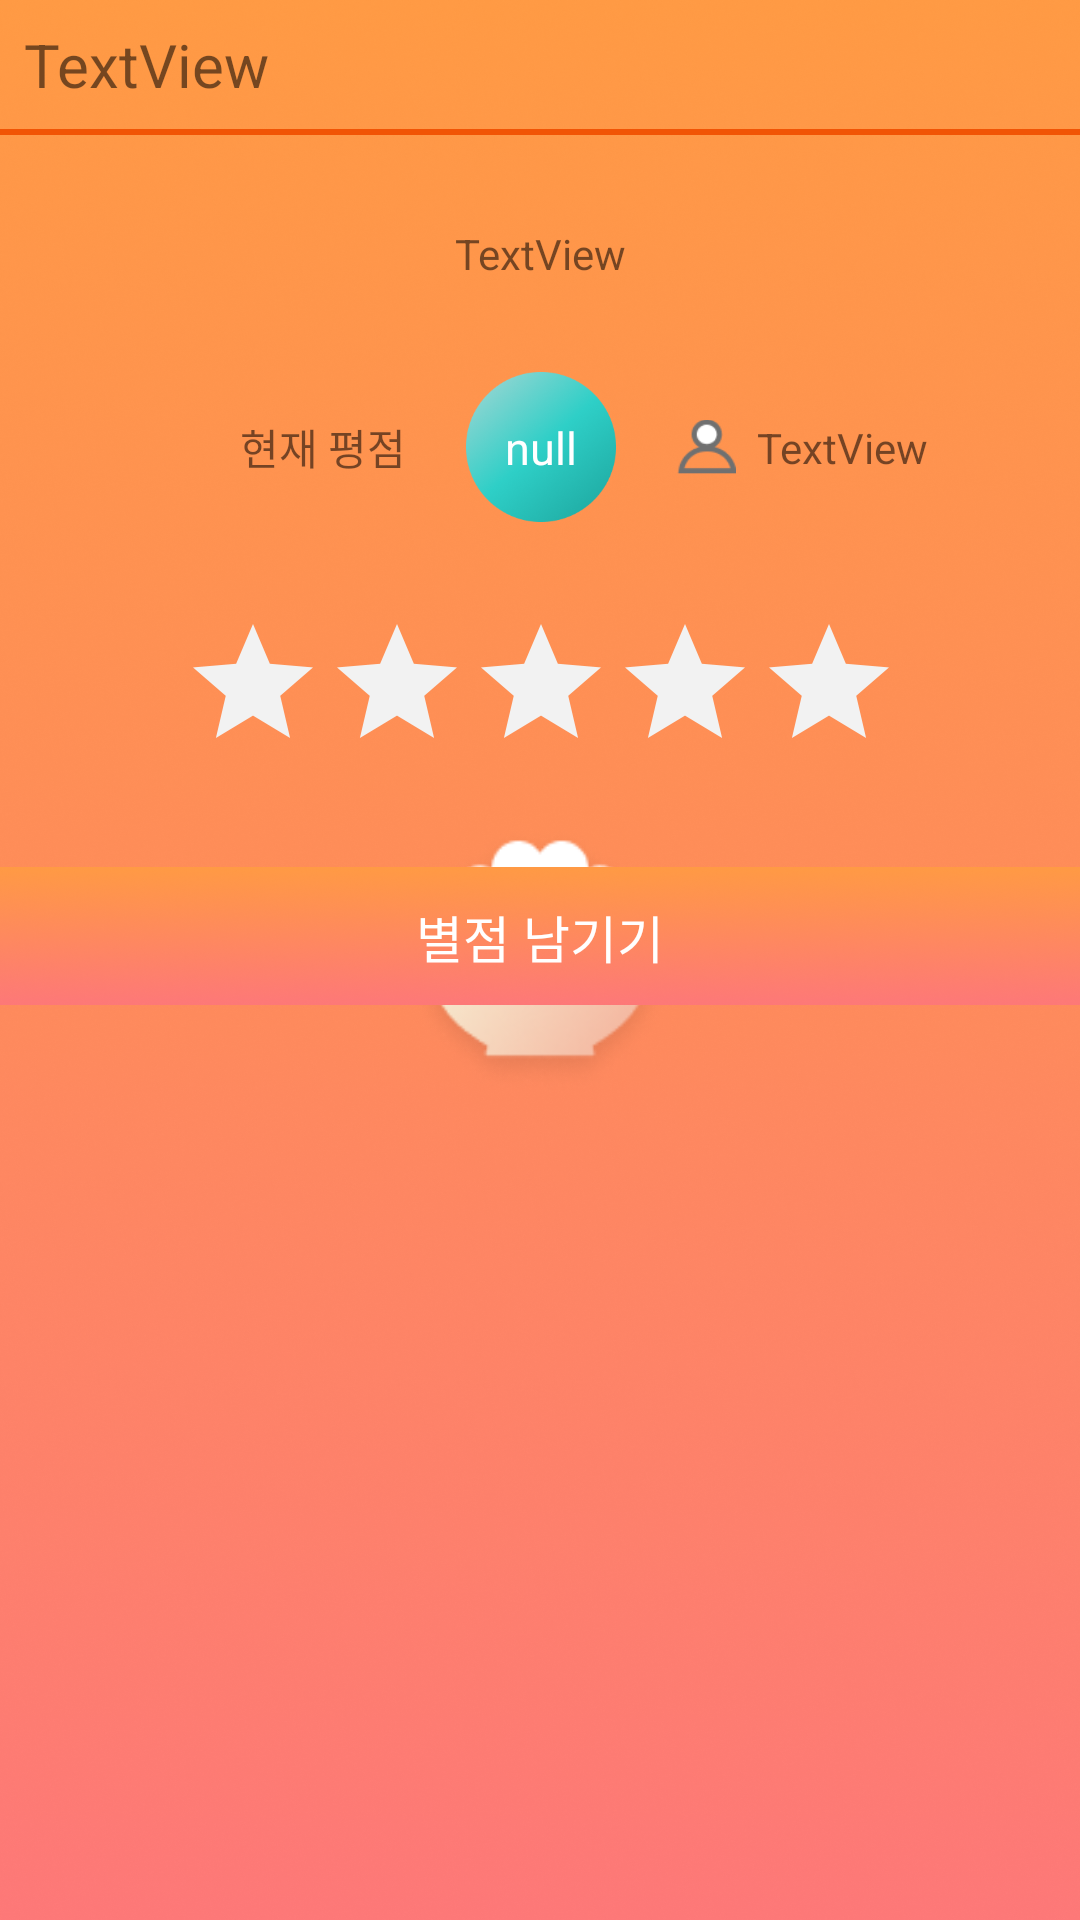

Icon bounding boxes for this 1080 x 1920 phone screenshot, format detection(x1, y1, x2, y2):
humancount: detection(678, 420, 736, 474)
